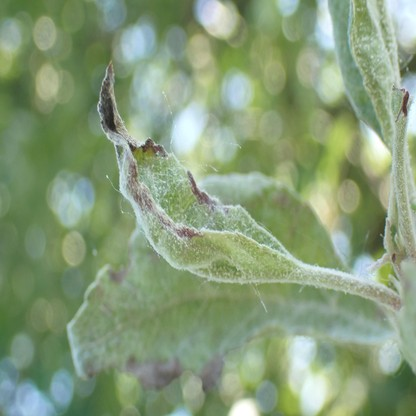powder: (96, 60, 295, 284), (71, 235, 171, 375), (347, 0, 401, 153)
